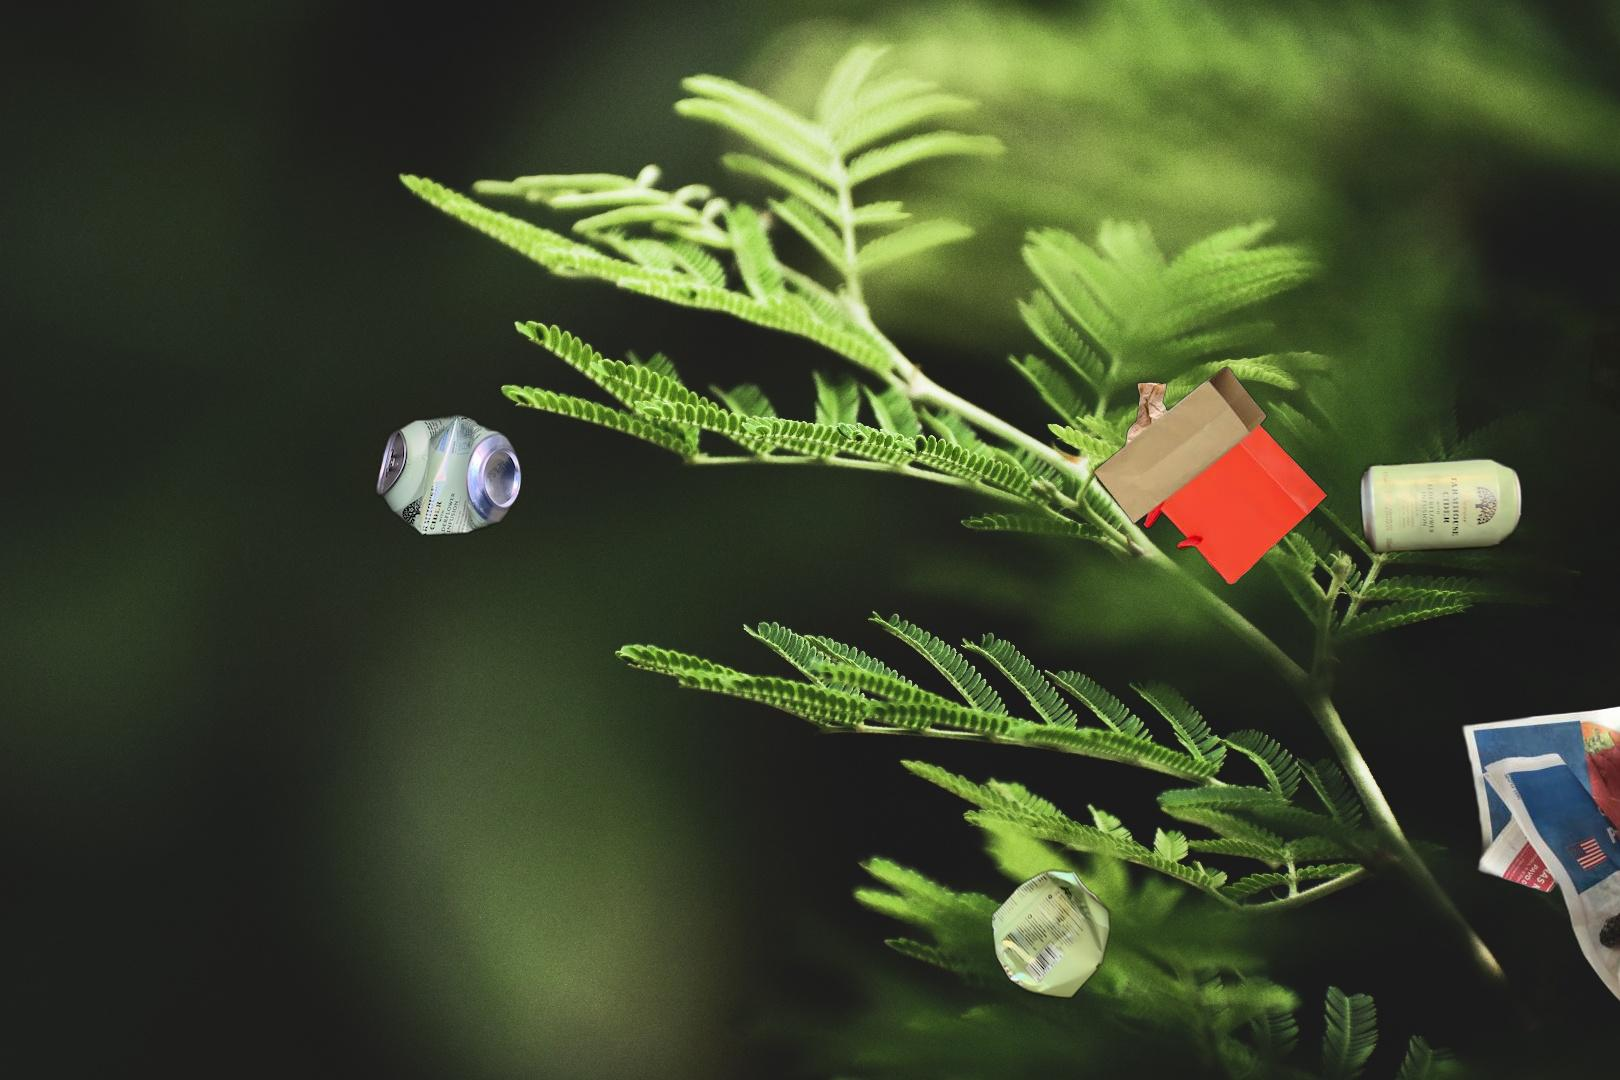metal-cans: (371, 409, 526, 542), (1356, 452, 1526, 560), (987, 865, 1115, 1004)
paper: (1286, 305, 1620, 689), (1457, 694, 1620, 1076)
paper-bag: (1089, 363, 1329, 588)
plastic-bottles: (1581, 319, 1620, 433)
